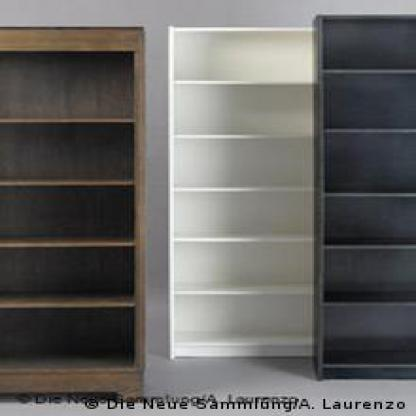lamp: (0, 25, 149, 403), (166, 26, 319, 363), (312, 15, 414, 384)
